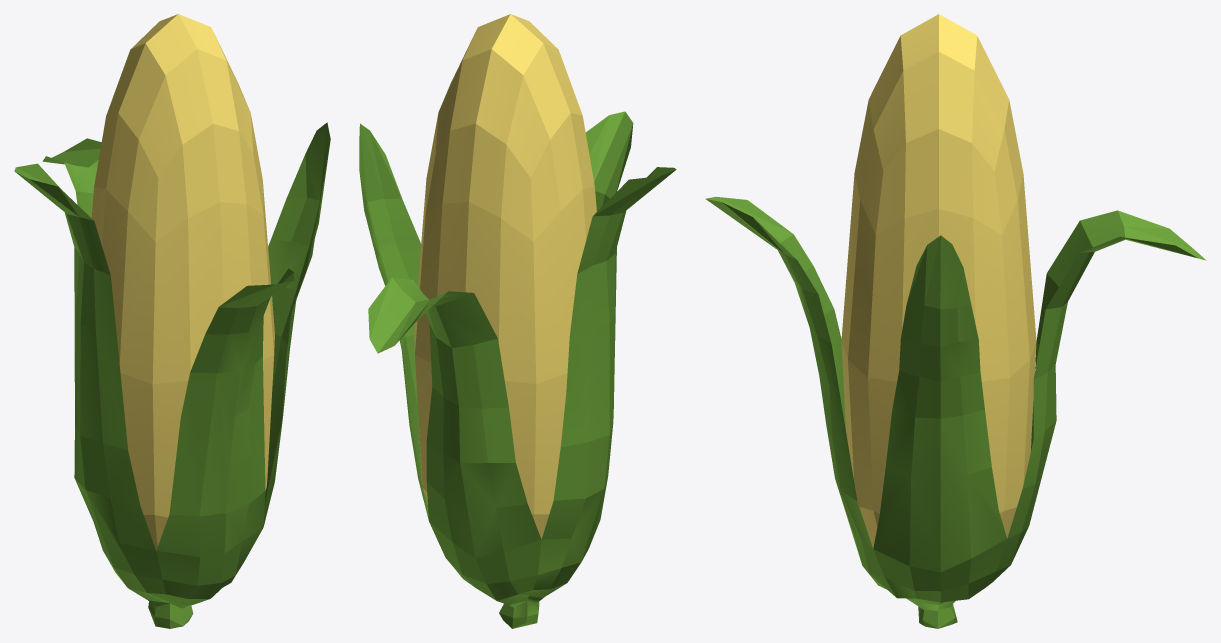
File: lowpoly corn.fbx
The picture shows the model from 3 angles, left to right: view 1: azimuth 30°, elevation 25°; view 2: azimuth 150°, elevation 25°; view 3: azimuth 270°, elevation 25°; orthographic projection.
Parts seen in each view (by area): view 1: Corn; view 2: Corn; view 3: Corn.
Boxes of the visible parts, x1=… form: Corn: x1=14, y1=14, x2=330, y2=628; Corn: x1=359, y1=14, x2=676, y2=628; Corn: x1=705, y1=14, x2=1206, y2=628.
Size of the model in its own units: 37.09 by 68.31 by 50.53.
